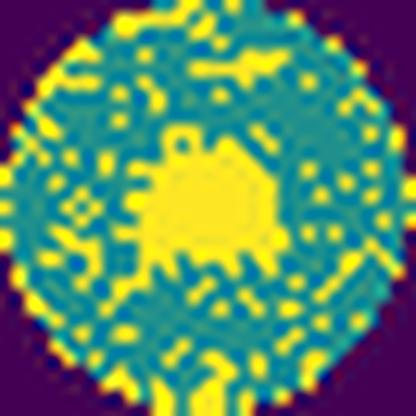Center: (105, 126, 289, 315)
